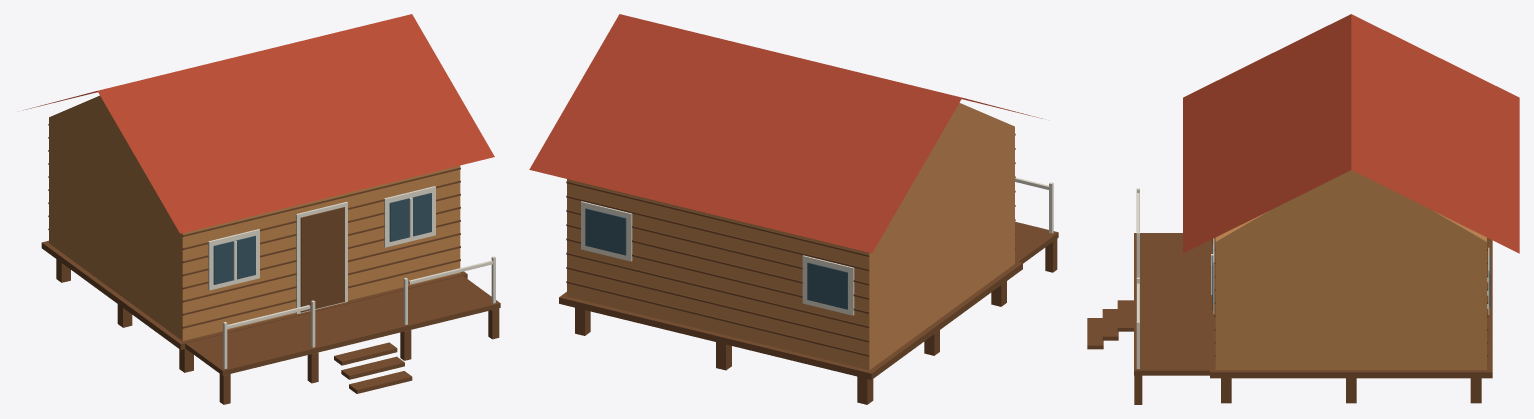
File: f02-rumah-kebun.glb
3 renders of one model, left to right at view 1: azimuth 30°, elevation 25°; view 2: azimuth 150°, elevation 25°; view 3: azimuth 270°, elevation 25°, orthographic. The views are drawn at different scales.
Visible parts, largest first — view 1: EX_kebun:atap-seng, EX_kebun:kayu-dinding, EX_kebun:kayu-gelap, EX_kebun:kusen-putih, EX_kebun:kaca; view 2: EX_kebun:atap-seng, EX_kebun:kayu-dinding, EX_kebun:kayu-gelap, EX_kebun:kaca, EX_kebun:kusen-putih; view 3: EX_kebun:atap-seng, EX_kebun:kayu-dinding, EX_kebun:kayu-gelap, EX_kebun:kusen-putih.
Part boxes in pixels (x1,y1,x2,y2): EX_kebun:atap-seng: (23,14,494,233); EX_kebun:kayu-dinding: (49,95,460,340); EX_kebun:kayu-gelap: (41,124,500,404); EX_kebun:kusen-putih: (208,186,495,368); EX_kebun:kaca: (213,193,431,284); EX_kebun:atap-seng: (529,14,1042,253); EX_kebun:kayu-dinding: (567,103,1014,370); EX_kebun:kayu-gelap: (559,133,1058,404); EX_kebun:kaca: (585,208,847,309); EX_kebun:kusen-putih: (581,177,1053,315); EX_kebun:atap-seng: (1183,14,1519,253); EX_kebun:kayu-dinding: (1215,170,1486,369); EX_kebun:kayu-gelap: (1087,233,1492,404); EX_kebun:kusen-putih: (1136,188,1489,368).
Size of the model in its own units: 6.8 by 4.97 by 7.96.
